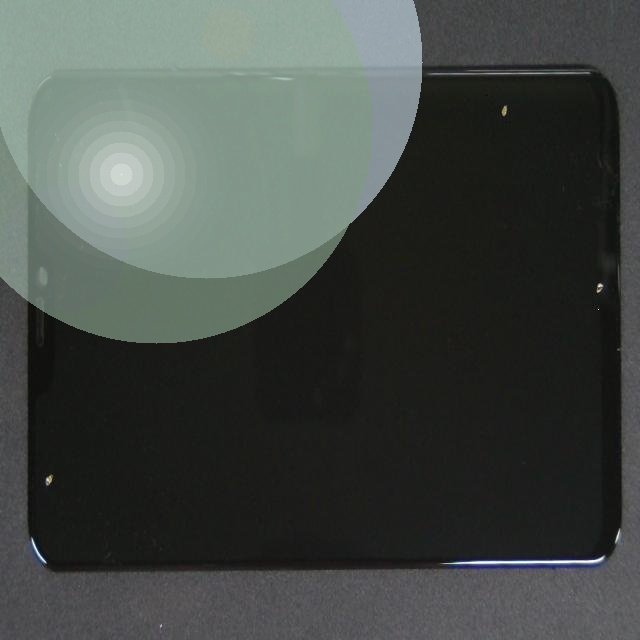stain: (307, 101, 640, 397), (232, 46, 640, 184), (18, 239, 54, 640)
